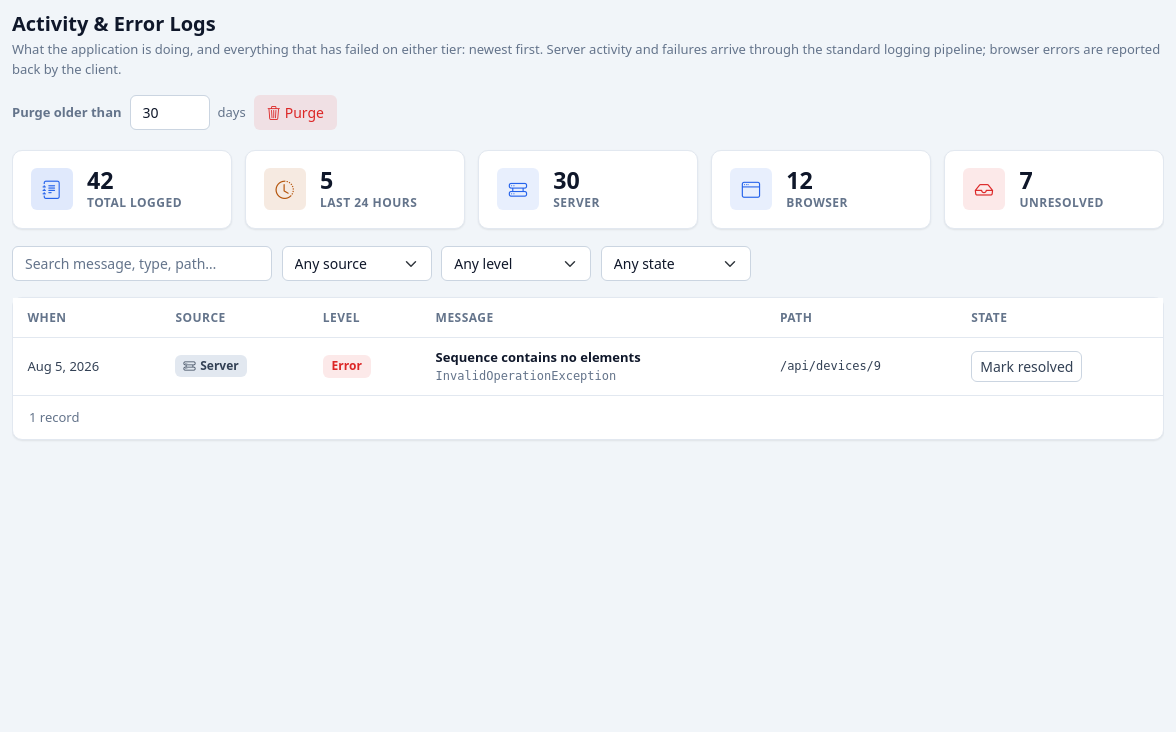
Scenario: ErrorLogs › expands an inline detail panel with the stack trace and correlation id
This screenshot has width=1176, height=732.
Step 1. Click the row with test id "error-log-row" → (588, 366), box [13, 338, 1163, 395]
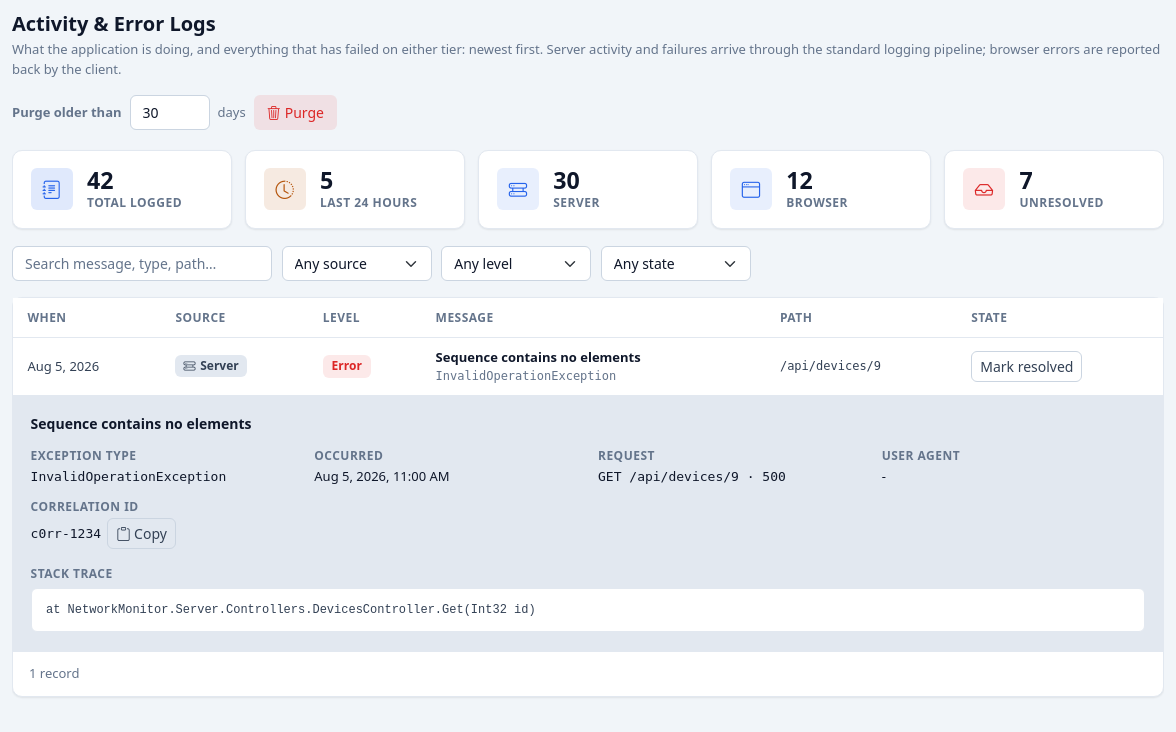
Result: the element with test id "error-log-detail" shows "InvalidOperationException" at [31, 469, 226, 484]
Result: the element with test id "error-log-detail" shows "GET /api/devices/9" at [598, 469, 739, 484]
Result: the element with test id "error-log-detail" shows "c0rr-1234" at [31, 526, 101, 541]
Clicking the same row again collapses it.
Step 2. Click the row with test id "error-log-row" → (588, 366), box [13, 338, 1163, 395]
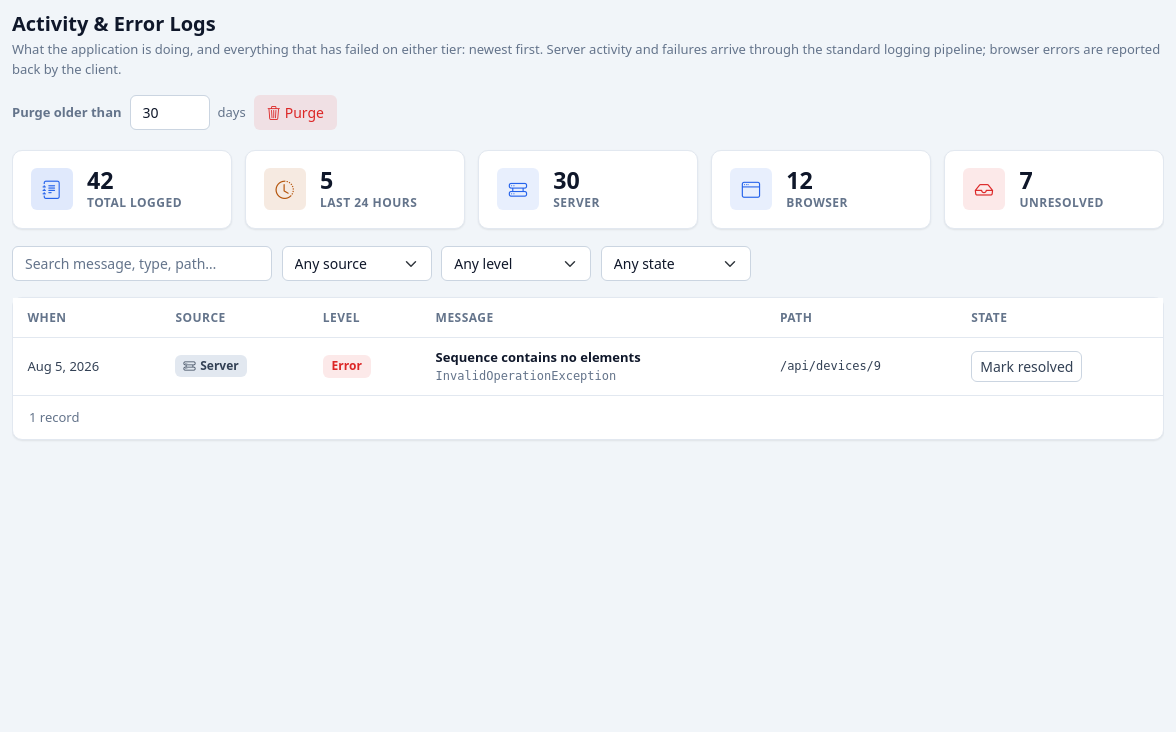
Result: the element with test id "error-log-detail" is gone
